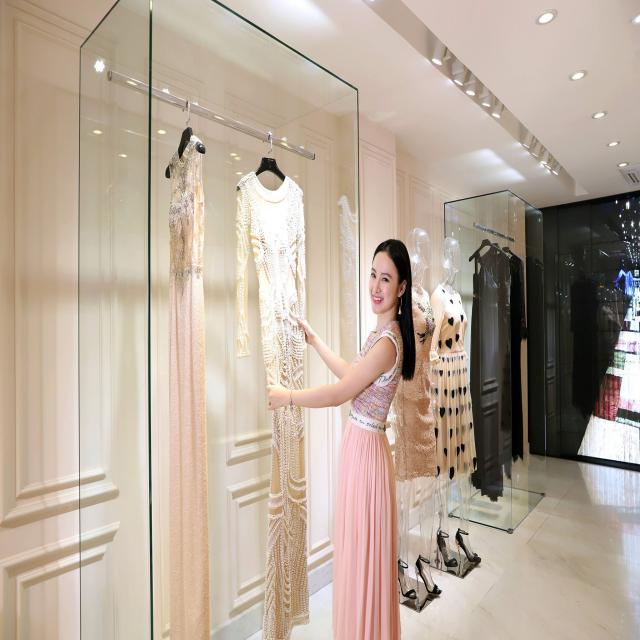clothes: (336, 319, 413, 640)
